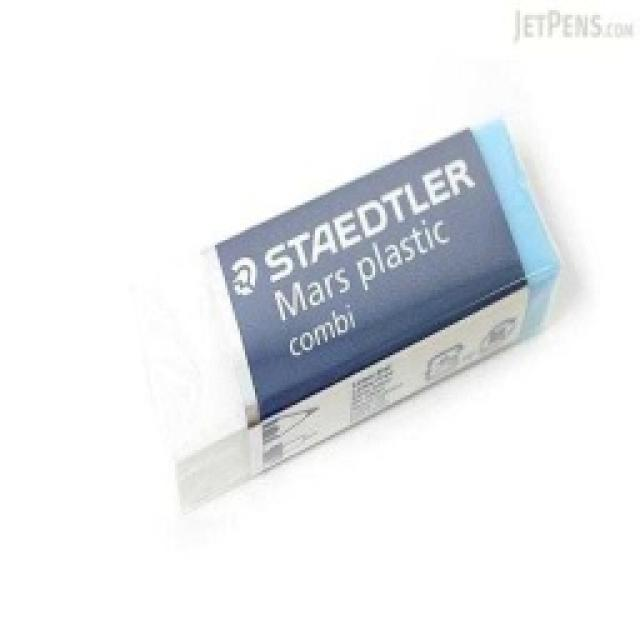Silgi: (126, 118, 564, 514)
